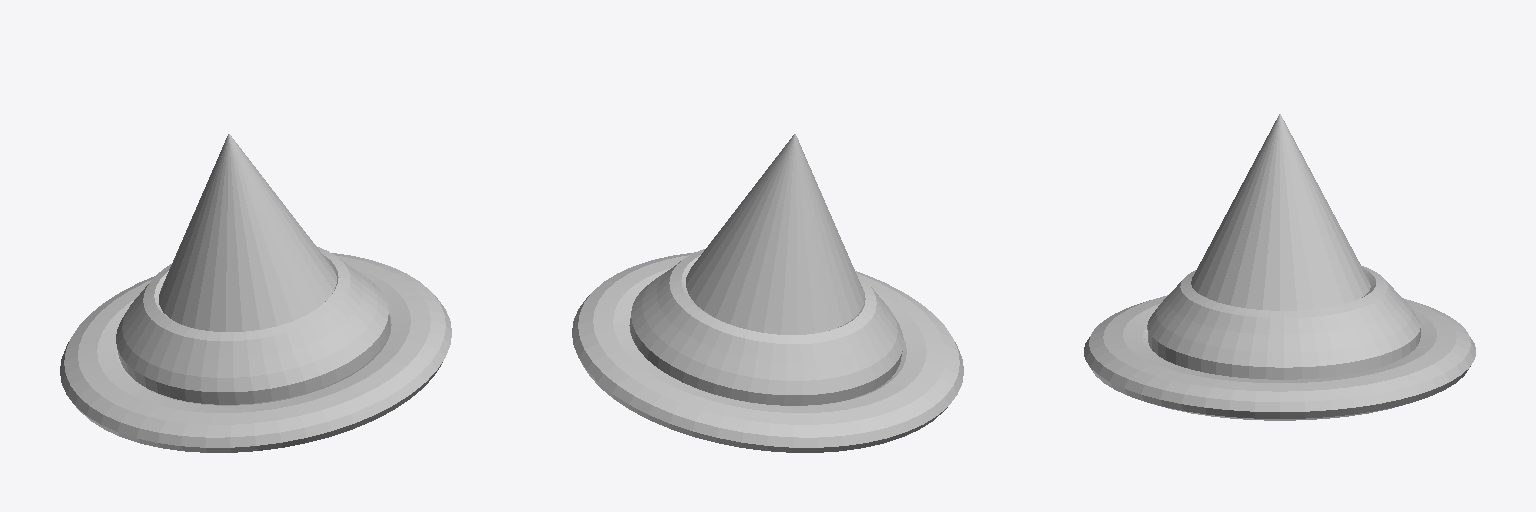
Rendered from sombreroBruja.obj.
3 renders of one model, left to right at view 1: azimuth 30°, elevation 25°; view 2: azimuth 150°, elevation 25°; view 3: azimuth 270°, elevation 25°, orthographic.
Visible parts, largest first — view 1: Ala, Cinta, Cono; view 2: Ala, Cinta, Cono; view 3: Ala, Cono, Cinta.
Boxes of the visible parts, x1,y1,x2,y2 form: Ala: [60, 253, 451, 452]; Cinta: [116, 246, 389, 404]; Cono: [159, 134, 336, 331]; Ala: [572, 252, 963, 452]; Cinta: [629, 249, 903, 405]; Cono: [686, 134, 864, 334]; Ala: [1084, 295, 1475, 420]; Cono: [1191, 114, 1370, 310]; Cinta: [1147, 266, 1420, 379].
Bounding box in the file's own units: 3.24 × 2.36 × 3.24.